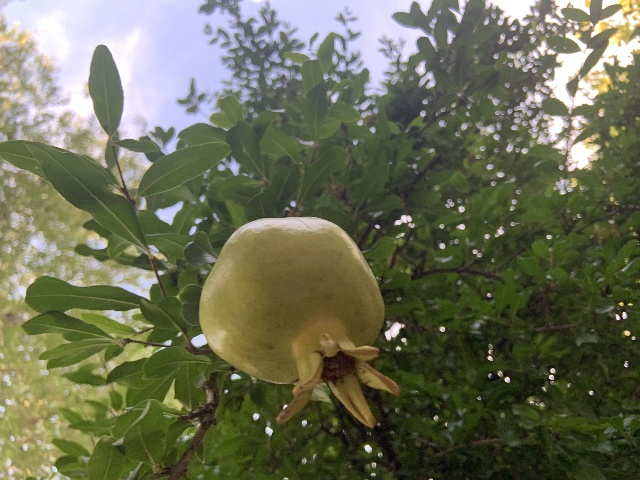mid-growth: (199, 216, 400, 429)
